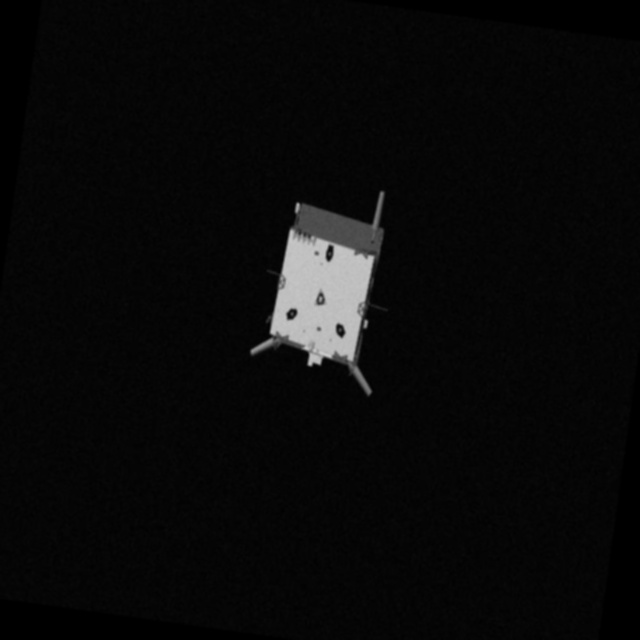medium_debris: (247, 171, 407, 399)
